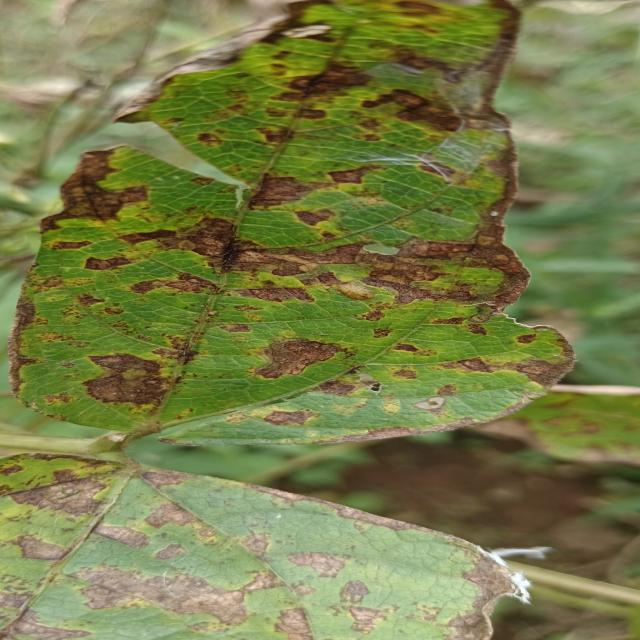Black gram_leaf spot: (0, 0, 640, 451), (0, 447, 529, 640)
